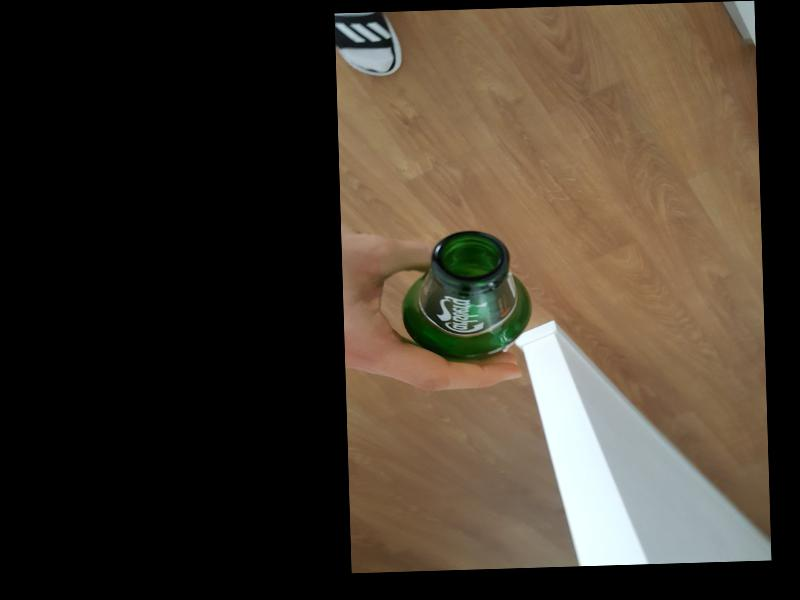Beer: (397, 229, 533, 362)
